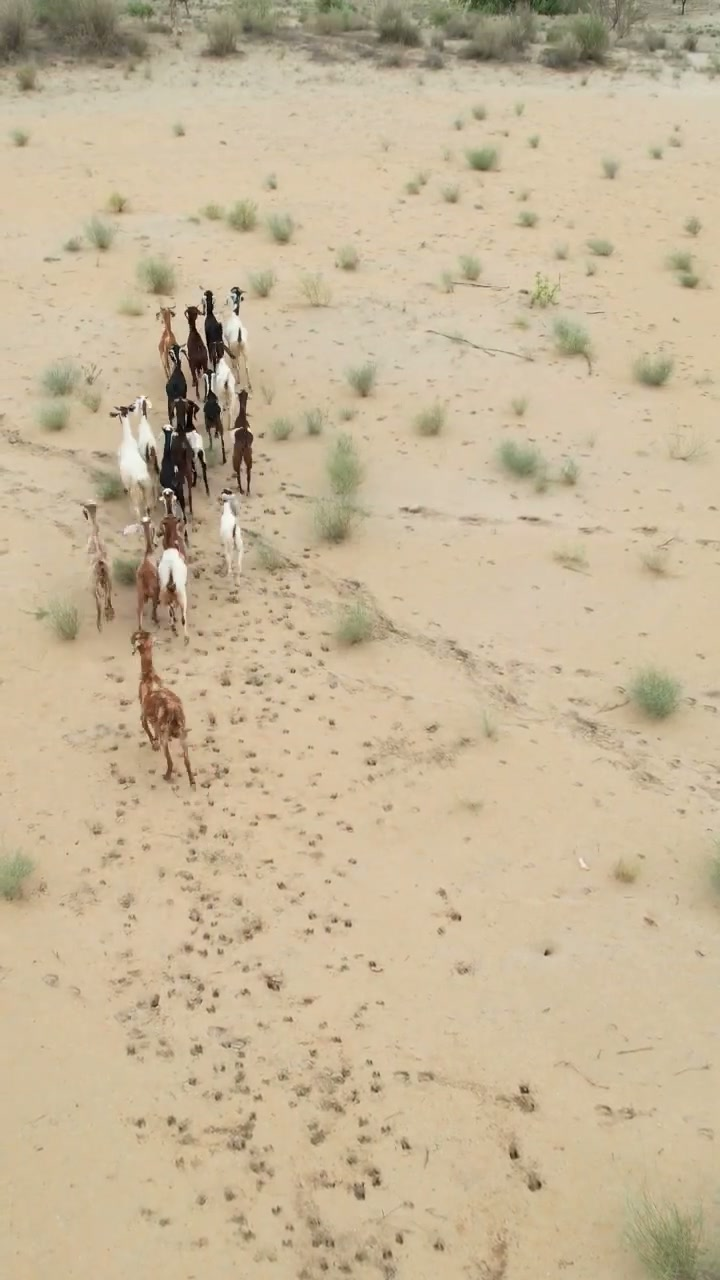animal_foot_print: (112, 616, 433, 1279)
